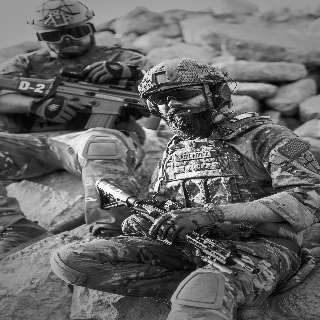rifle: (91, 175, 259, 277), (1, 67, 148, 132)
